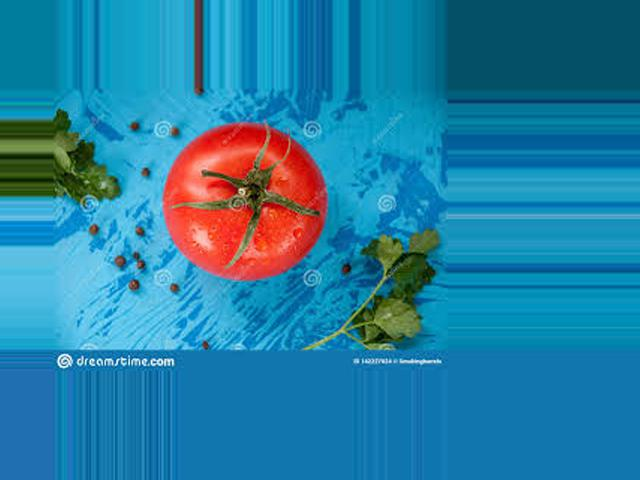tomato: (163, 123, 328, 280)
